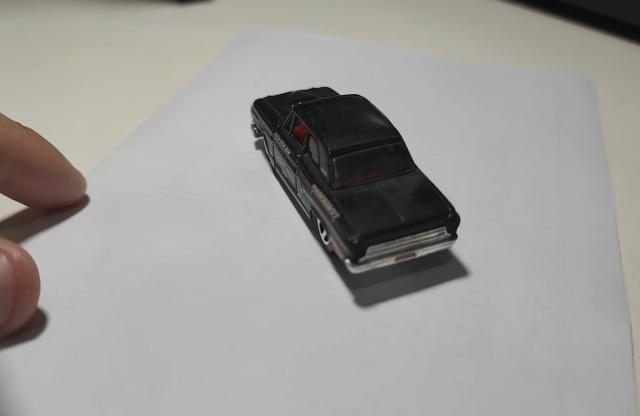01_FORD: (250, 86, 470, 309)
